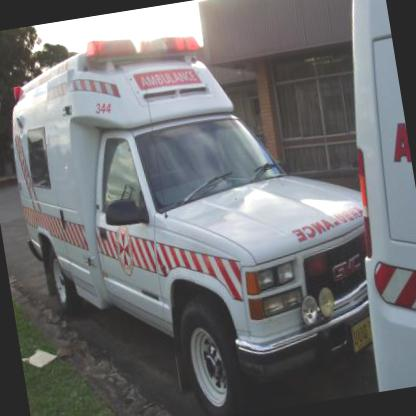truck: (0, 0, 394, 415), (311, 0, 415, 392)
